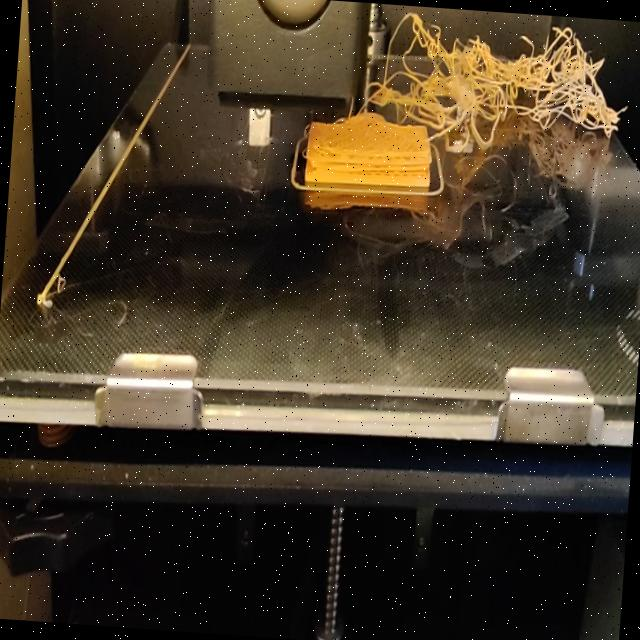spaghetti: (360, 2, 630, 160)
